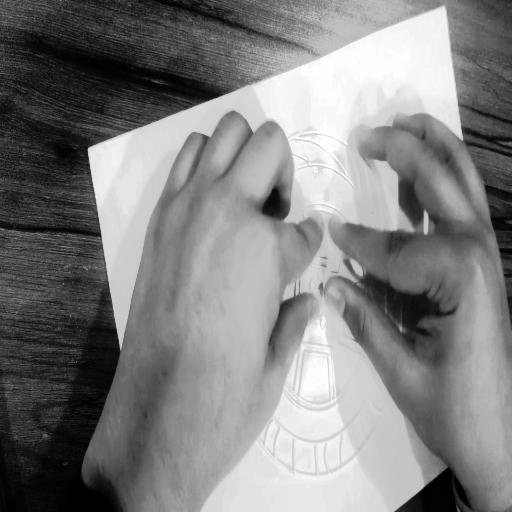tire: (186, 88, 451, 512)
top_left: (85, 142, 92, 157)
top_right: (438, 5, 448, 14)
